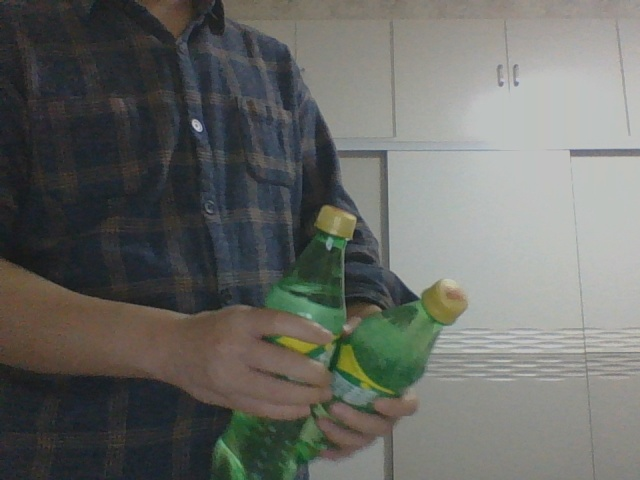Sprite: (207, 204, 359, 477), (295, 278, 470, 458)
